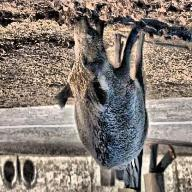boar: (42, 9, 156, 175)
